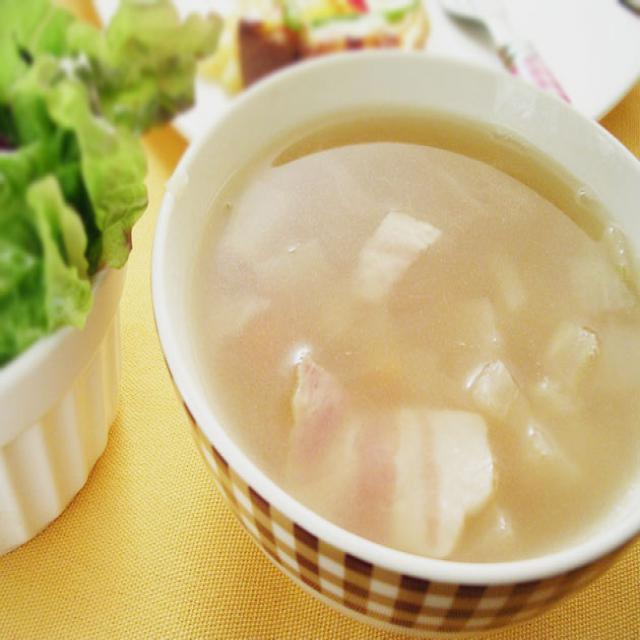potage: (142, 39, 639, 639)
